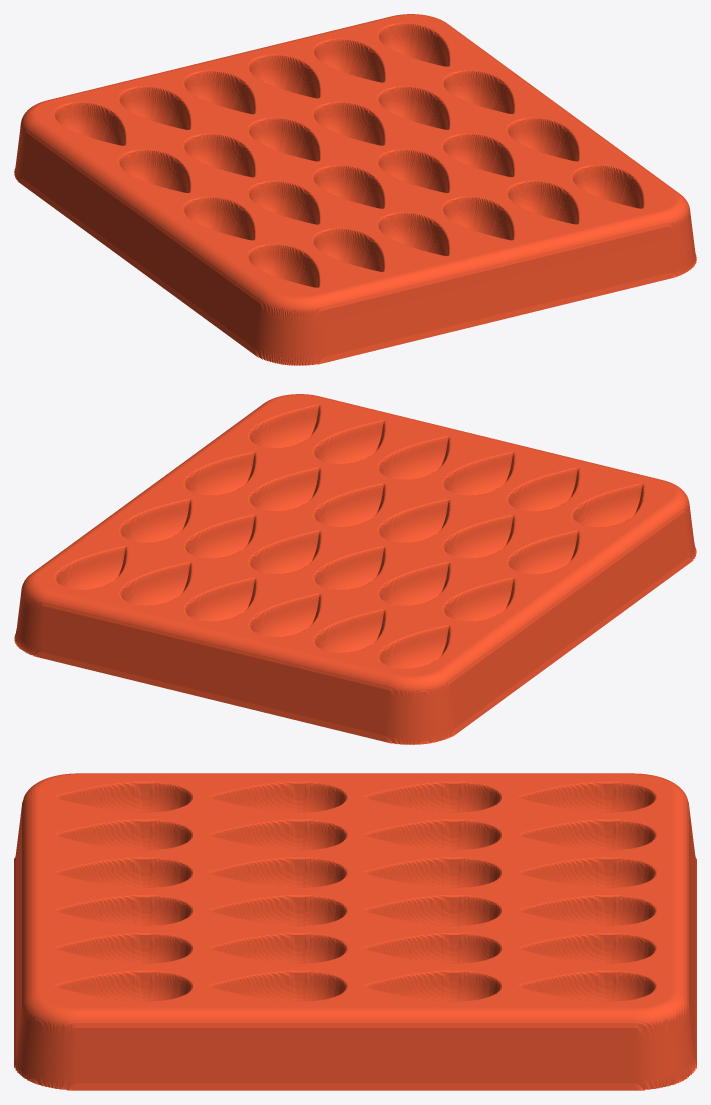
File: mold.glb
The picture shows the model from 3 angles, top to bottom: view 1: azimuth 30°, elevation 25°; view 2: azimuth 150°, elevation 25°; view 3: azimuth 270°, elevation 25°; orthographic projection. The views are drawn at different scales.
Visible parts, largest first — view 1: geometry_0; view 2: geometry_0; view 3: geometry_0.
Part boxes in pixels (x1,y1,x2,y2): geometry_0: (14,14,696,365); geometry_0: (14,394,696,744); geometry_0: (14,773,696,1090).
Bounding box in the file's own units: 0.0863 × 0.0114 × 0.098.
